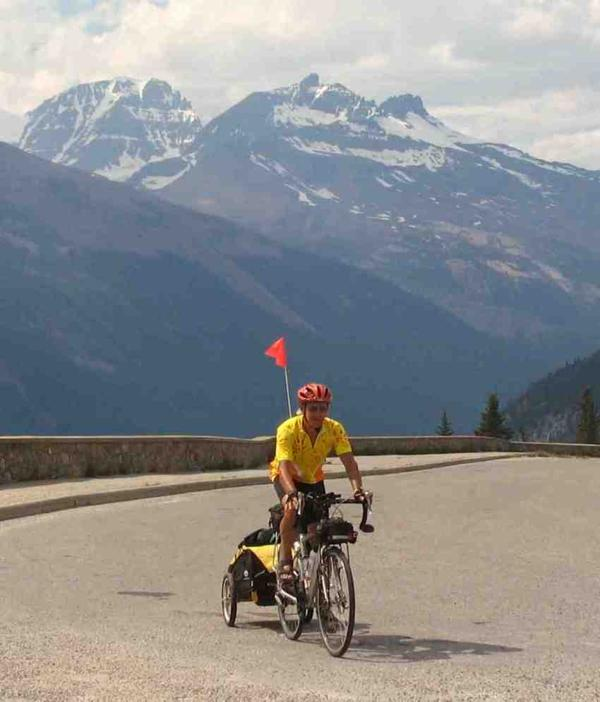person: (270, 383, 374, 623)
